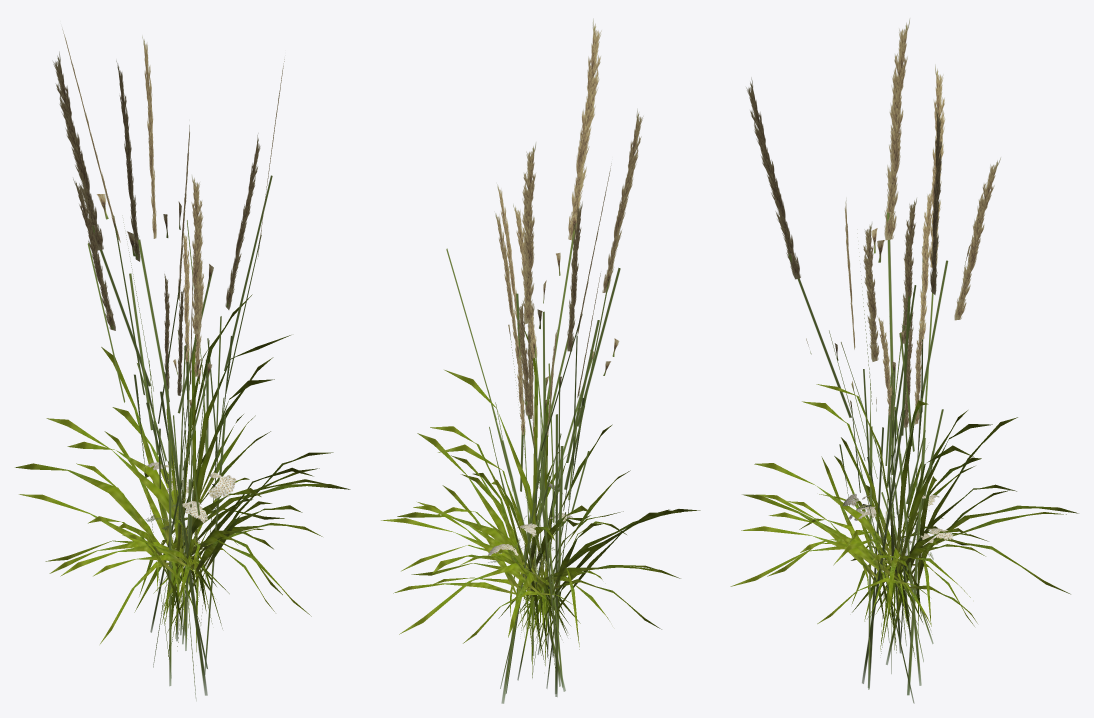
Rendered from vegetation_10.glb.
The picture shows the model from 3 angles, left to right: view 1: azimuth 30°, elevation 25°; view 2: azimuth 150°, elevation 25°; view 3: azimuth 270°, elevation 25°; orthographic projection. The views are drawn at different scales.
Parts seen in each view (by area): view 1: prototype_080, prototype_081; view 2: prototype_080, prototype_081; view 3: prototype_080, prototype_081.
Part boxes in pixels (left/top/right/bottom): prototype_080: left=15, top=29, right=350, bottom=700; prototype_081: left=145, top=462, right=236, bottom=568; prototype_080: left=381, top=19, right=700, bottom=703; prototype_081: left=488, top=482, right=572, bottom=600; prototype_080: left=730, top=19, right=1078, bottom=703; prototype_081: left=842, top=494, right=953, bottom=595.
Size of the model in its own units: 0.774 by 1.7 by 0.8628.
Materials: 5 (5 with a texture image).
